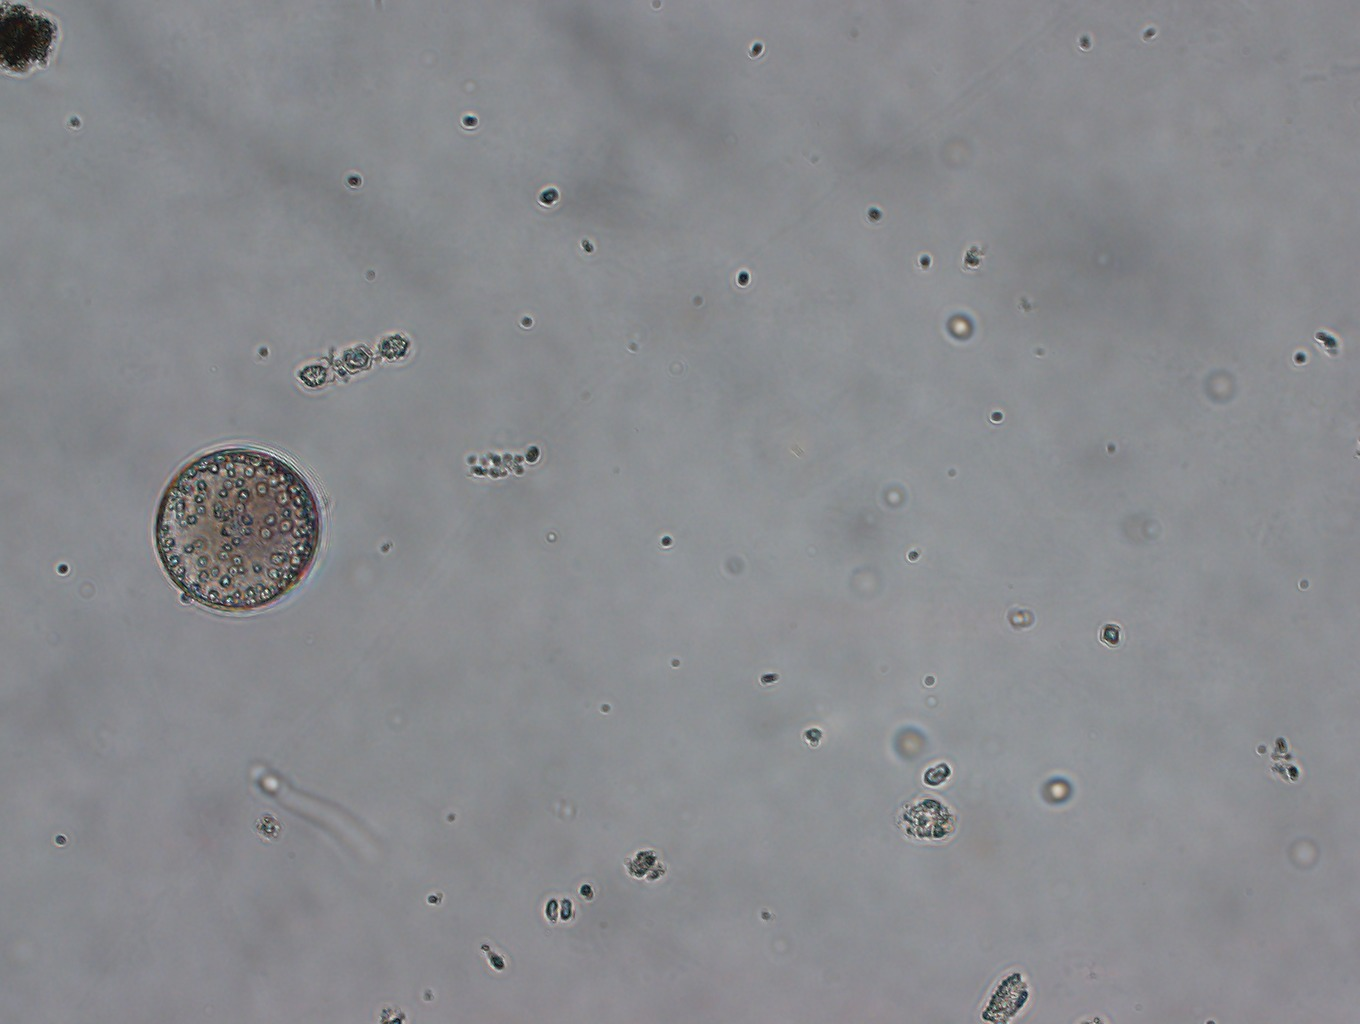coscinodiscus: (146, 437, 328, 618)
